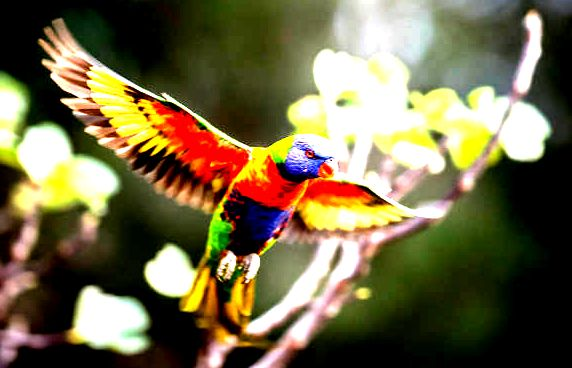Bird: (37, 15, 444, 322)
